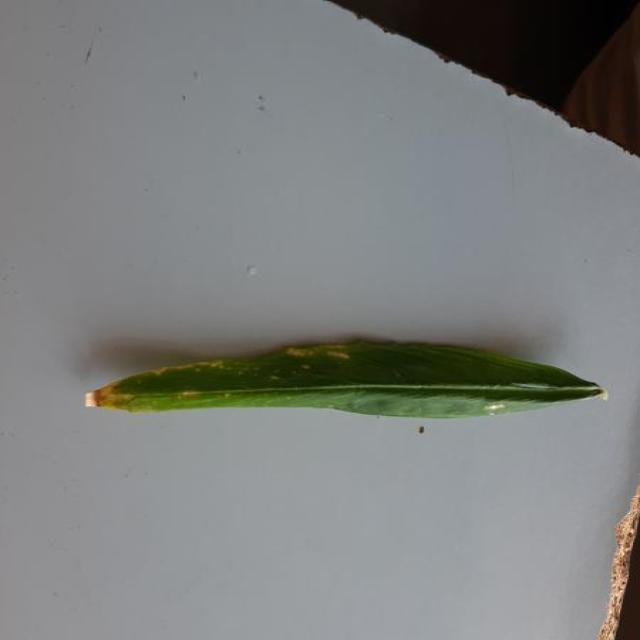bacterial wilt: (85, 340, 603, 418)
ginger: (85, 340, 605, 418)
